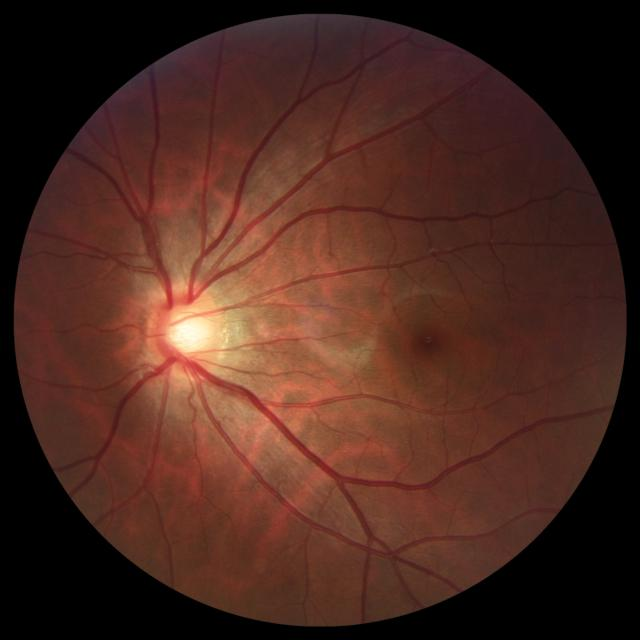OC: (159, 302, 210, 359)
OD: (143, 281, 226, 381)
